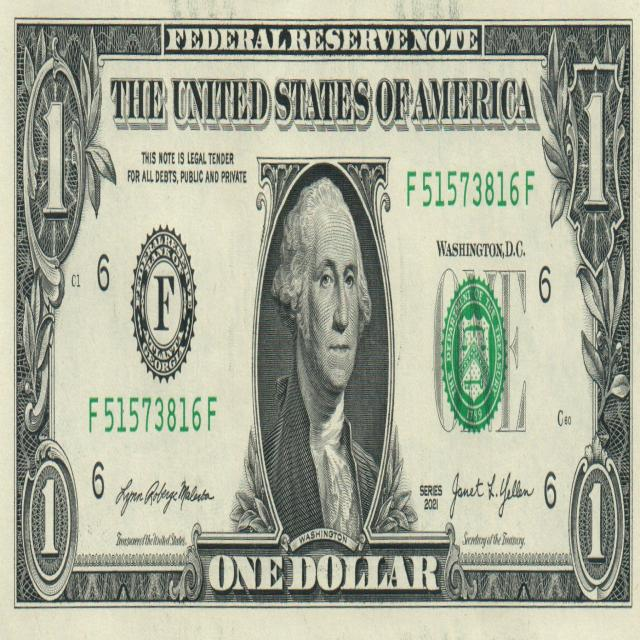SerialNumber: (89, 396, 216, 432), (422, 170, 534, 207)
